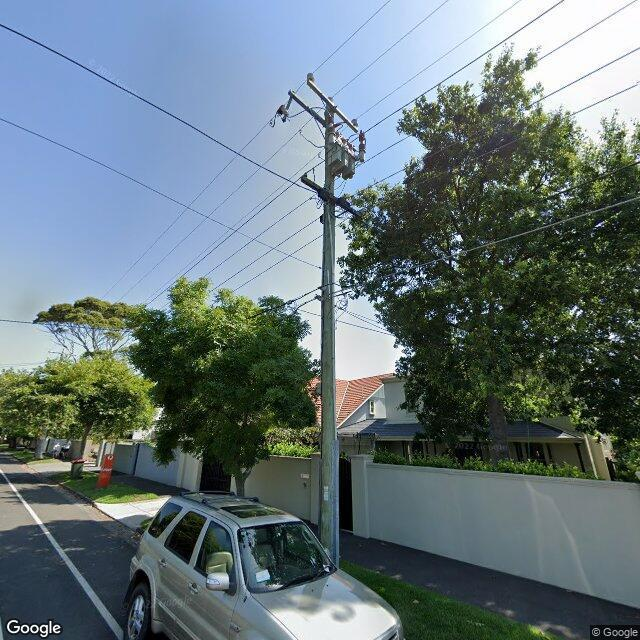HV-transmission: (277, 72, 366, 162)
crossarm: (289, 90, 357, 152), (301, 173, 361, 218), (308, 80, 358, 133)
timber-pole: (319, 96, 340, 566)
transformer: (328, 131, 357, 180)
